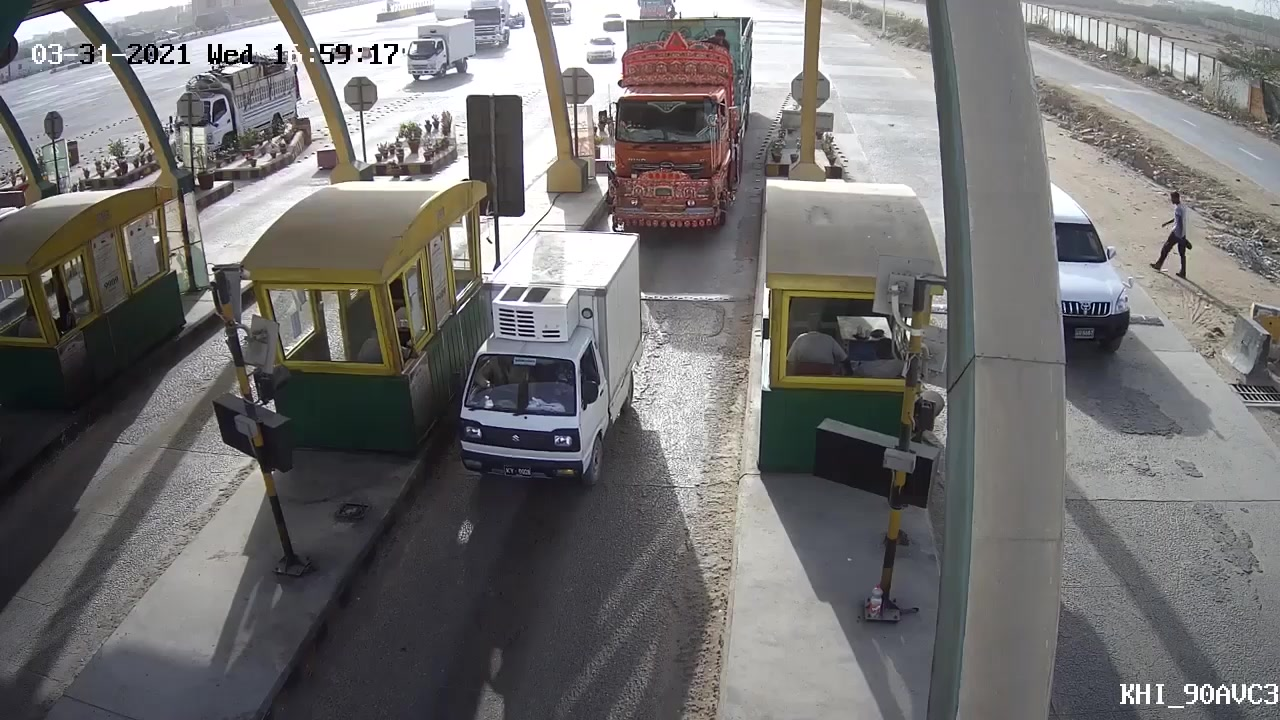F1: (448, 222, 646, 495)
F5: (610, 15, 752, 235)
